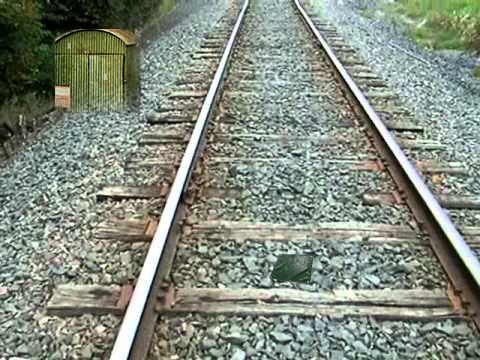Dust_screen: (267, 252, 316, 288)
Green_house: (49, 16, 146, 119)
